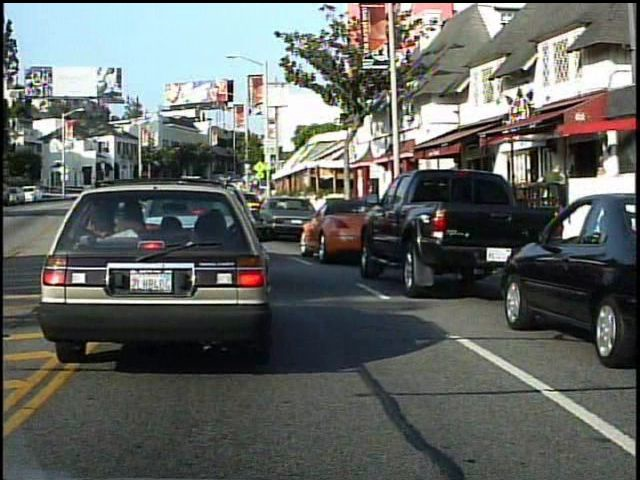person: (541, 160, 568, 228)
